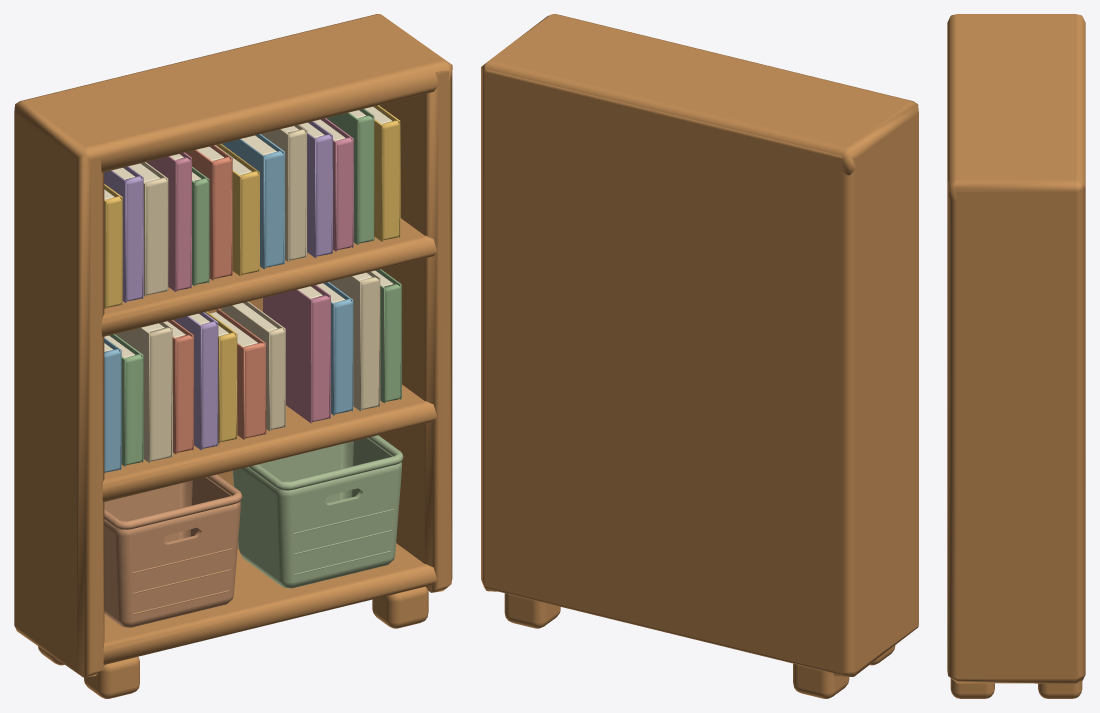
Rendered from bookshelf_mobile.glb.
3 renders of one model, left to right at view 1: azimuth 30°, elevation 25°; view 2: azimuth 150°, elevation 25°; view 3: azimuth 270°, elevation 25°, orthographic. The views are drawn at different scales.
Parts seen in each view (by area): view 1: Left rounded upright_export, Thick rounded crown_export, Right rounded upright_export, Right storage basket body_export, Left storage basket body_export, Bottom shelf_export, Middle shelf_export, Upper shelf_export, Middle book 09 cover_export, Middle book 03 rounded spine_export, Upper book 03 rounded spine_export, Middle book 11 rounded spine_export (+41 smaller); view 2: Solid finished maple back_export, Left rounded upright_export, Thick rounded crown_export, Right rounded upright_export, Short rounded maple foot.003_export, Short rounded maple foot.001_export; view 3: Right rounded upright_export, Thick rounded crown_export, Short rounded maple foot.002_export, Short rounded maple foot.003_export, Solid finished maple back_export.
Boxes of the visible parts, x1,y1,x2,y2 form: Left rounded upright_export: (14, 104, 104, 677); Thick rounded crown_export: (15, 14, 452, 172); Right rounded upright_export: (378, 70, 452, 592); Right storage basket body_export: (232, 438, 401, 588); Left storage basket body_export: (104, 477, 240, 627); Bottom shelf_export: (103, 543, 437, 664); Middle shelf_export: (102, 384, 437, 502); Upper shelf_export: (101, 218, 437, 336); Middle book 09 cover_export: (263, 289, 312, 423); Middle book 03 rounded spine_export: (149, 327, 172, 461); Upper book 03 rounded spine_export: (145, 177, 167, 295); Middle book 11 rounded spine_export: (360, 276, 379, 409); Solid finished maple back_export: (486, 69, 843, 675); Left rounded upright_export: (832, 104, 918, 676); Thick rounded crown_export: (481, 14, 918, 175); Right rounded upright_export: (481, 60, 497, 591); Short rounded maple foot.003_export: (504, 593, 560, 628); Short rounded maple foot.001_export: (793, 663, 849, 698); Right rounded upright_export: (947, 179, 1085, 683); Thick rounded crown_export: (947, 14, 1085, 201); Short rounded maple foot.002_export: (950, 678, 994, 698); Short rounded maple foot.003_export: (1038, 681, 1082, 698); Solid finished maple back_export: (1084, 20, 1085, 186).
Bounding box in the file's own units: 0.95 × 1.35 × 0.32.
